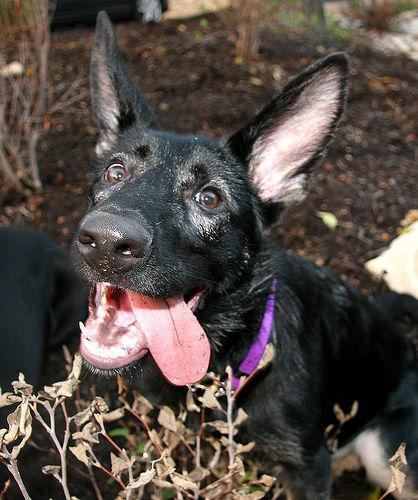German_shepherd: (63, 10, 415, 498)
